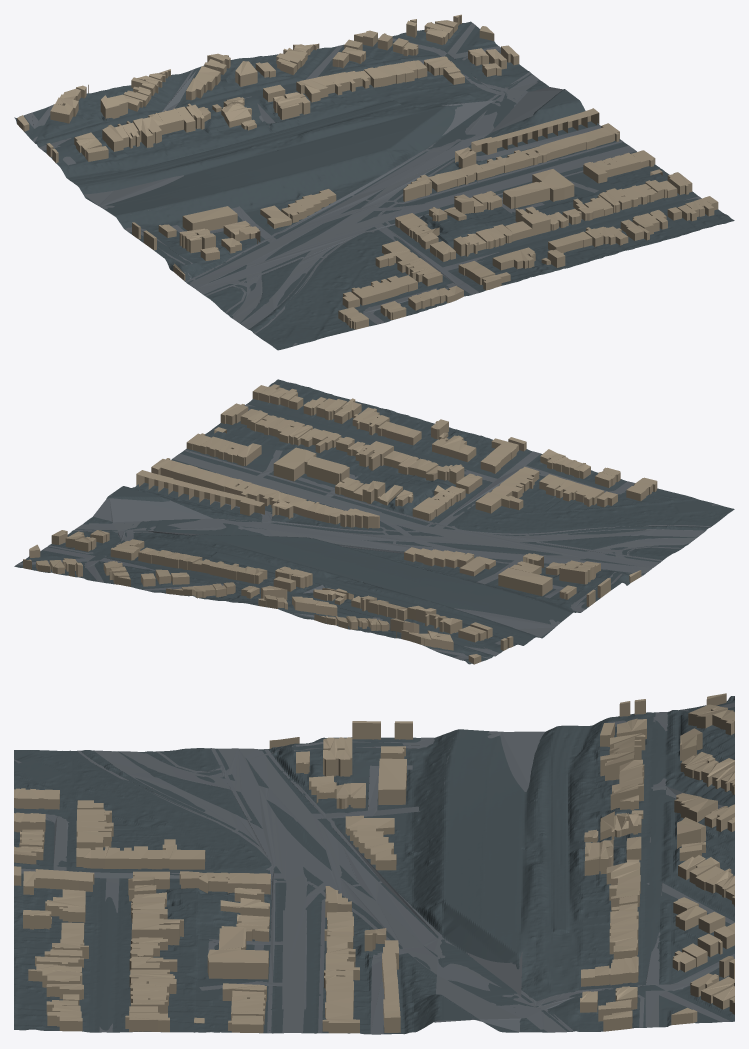
The model's file is epsg26910-1425-10869.lod0.glb.
The picture shows the model from 3 angles, top to bottom: view 1: azimuth 30°, elevation 25°; view 2: azimuth 150°, elevation 25°; view 3: azimuth 270°, elevation 25°; orthographic projection. The views are drawn at different scales.
Visible parts, largest first — view 1: epsg26910-1425-10869-lod0; view 2: epsg26910-1425-10869-lod0; view 3: epsg26910-1425-10869-lod0.
Boxes of the visible parts, x1,y1,x2,y2 form: epsg26910-1425-10869-lod0: [14, 14, 734, 350]; epsg26910-1425-10869-lod0: [14, 379, 734, 664]; epsg26910-1425-10869-lod0: [14, 693, 734, 1034].
Size of the model in its own units: 384 by 45.28 by 384.
